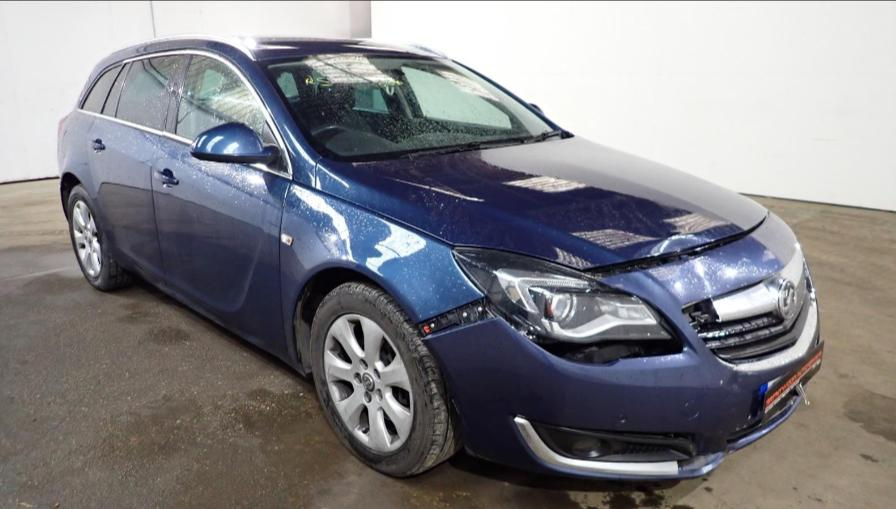Broken part: (411, 287, 697, 373), (683, 241, 811, 364), (575, 207, 768, 281)
Dent: (676, 259, 720, 291), (661, 237, 706, 254), (724, 369, 741, 391)
Scratch: (464, 444, 494, 461), (451, 397, 460, 416)
